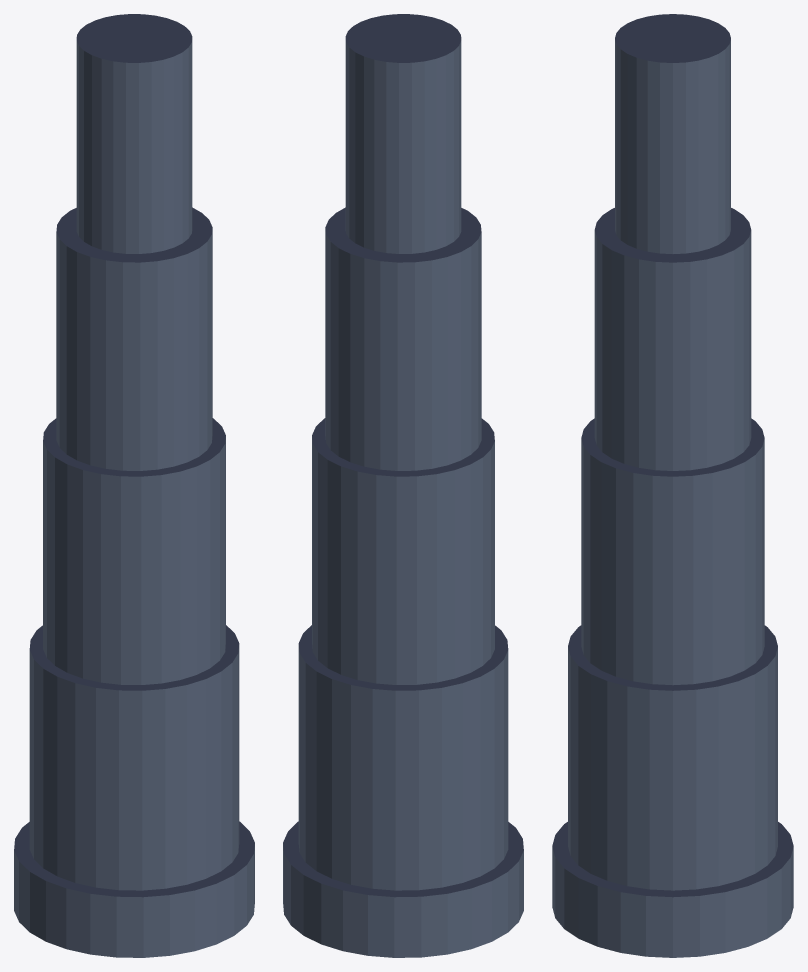
Rendered from halo.glb.
The picture shows the model from 3 angles, left to right: view 1: azimuth 30°, elevation 25°; view 2: azimuth 150°, elevation 25°; view 3: azimuth 270°, elevation 25°; orthographic projection.
Parts seen in each view (by area): view 1: halo-1, halo-2, halo-3, halo-4, halo-0; view 2: halo-1, halo-2, halo-3, halo-4, halo-0; view 3: halo-1, halo-2, halo-3, halo-4, halo-0.
Part boxes in pixels (<box>): halo-1: <box>29,625,239,890</box>; halo-2: <box>43,418,225,684</box>; halo-3: <box>56,207,212,470</box>; halo-4: <box>76,14,192,253</box>; halo-0: <box>14,821,254,957</box>; halo-1: <box>298,625,508,890</box>; halo-2: <box>312,418,494,684</box>; halo-3: <box>325,207,481,470</box>; halo-4: <box>345,14,461,253</box>; halo-0: <box>283,821,523,957</box>; halo-1: <box>568,625,777,890</box>; halo-2: <box>581,418,764,685</box>; halo-3: <box>594,208,751,470</box>; halo-4: <box>615,14,730,253</box>; halo-0: <box>552,822,793,957</box>.
Size of the model in its own units: 0.4517 by 1.79 by 0.4517.
